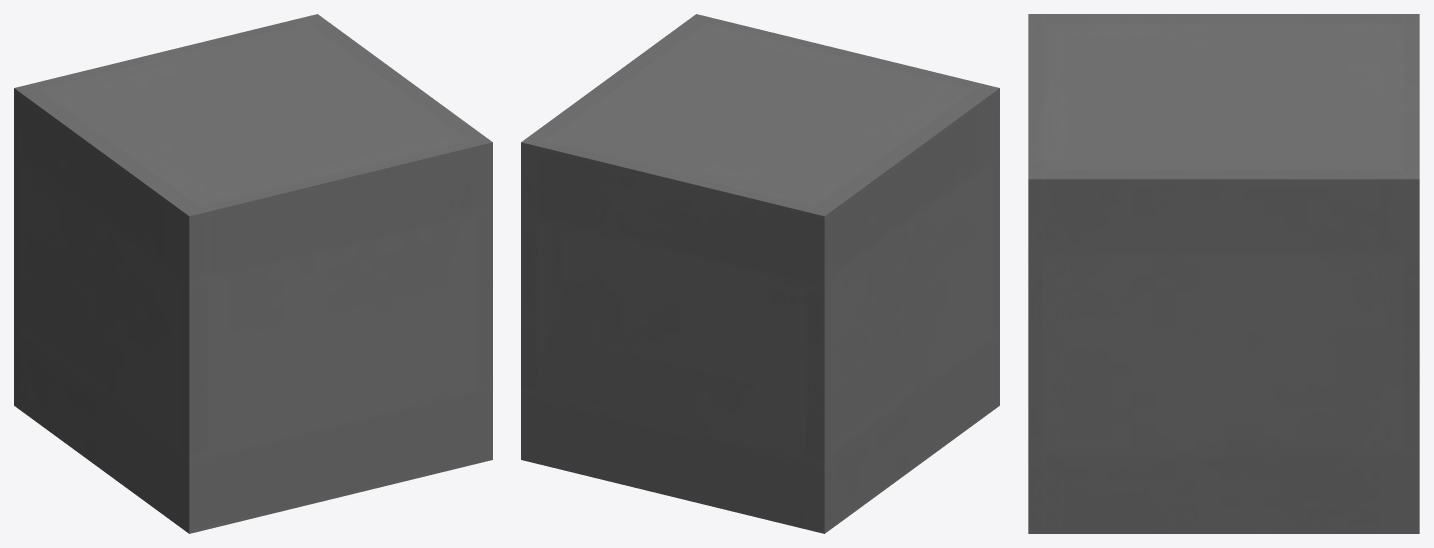
The model's file is ScalableMesh_Ground__11.fbx.
3 views of the same model, side by side, from view 1: azimuth 30°, elevation 25°; view 2: azimuth 150°, elevation 25°; view 3: azimuth 270°, elevation 25° (orthographic). The views are drawn at different scales.
Parts seen in each view (by area): view 1: MAT_ScalableMesh_02; view 2: MAT_ScalableMesh_02; view 3: MAT_ScalableMesh_02.
Part boxes in pixels (left/top/right/bottom): MAT_ScalableMesh_02: left=14, top=14, right=492, bottom=533; MAT_ScalableMesh_02: left=521, top=14, right=999, bottom=533; MAT_ScalableMesh_02: left=1028, top=14, right=1419, bottom=533.
Bounding box in the file's own units: 1 × 1 × 1.
1 material, 1 textured.
